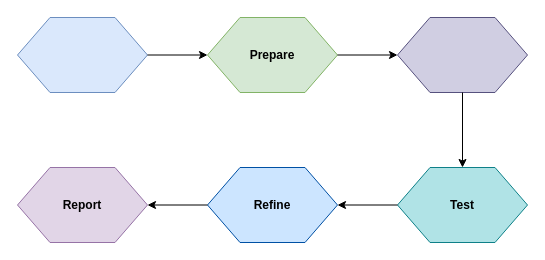
Image size: 545x260. Some labels were removed from this diagram. Here are the shapes that lost their labels. From the top down, the centre of each, then its label:
(82,54): Define
(462,54): Solve
